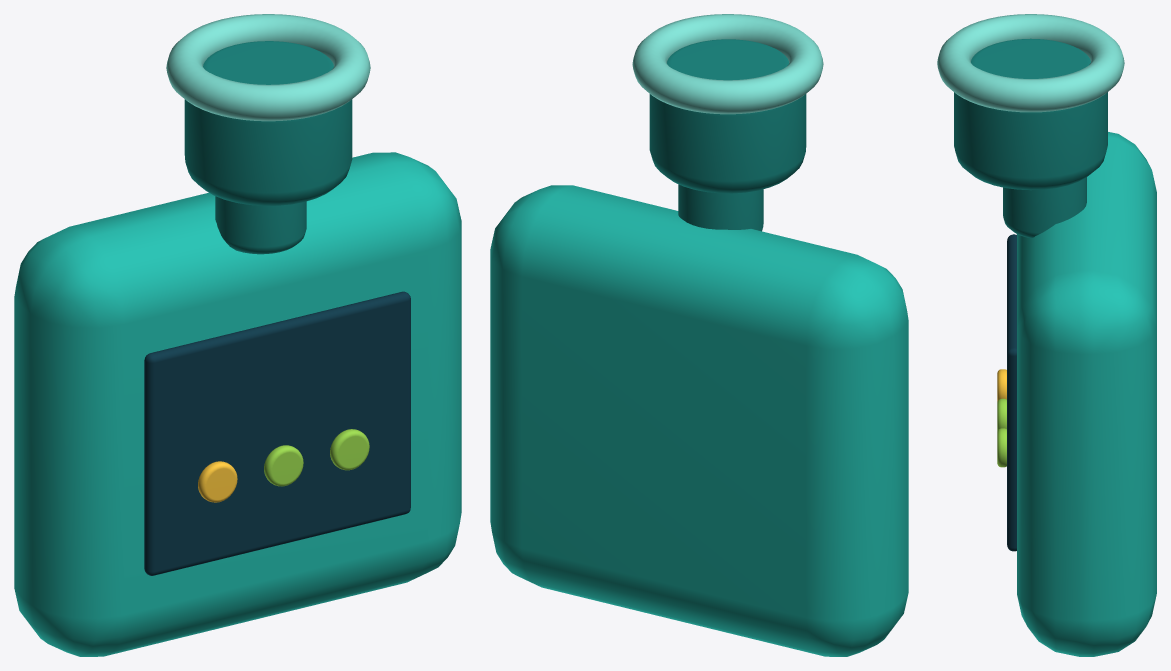
The model's file is IncubatorDoser.fbx.
3 views of the same model, side by side, from view 1: azimuth 30°, elevation 25°; view 2: azimuth 150°, elevation 25°; view 3: azimuth 270°, elevation 25° (orthographic). The views are drawn at different scales.
Parts seen in each view (by area): view 1: IncubatorDoser mesh; view 2: IncubatorDoser mesh; view 3: IncubatorDoser mesh.
Boxes of the visible parts, x1,y1,x2,y2 form: IncubatorDoser mesh: (14, 14, 461, 656); IncubatorDoser mesh: (490, 14, 908, 656); IncubatorDoser mesh: (937, 14, 1156, 656).
Bounding box in the file's own units: 0.32 × 0.422 × 0.157.
